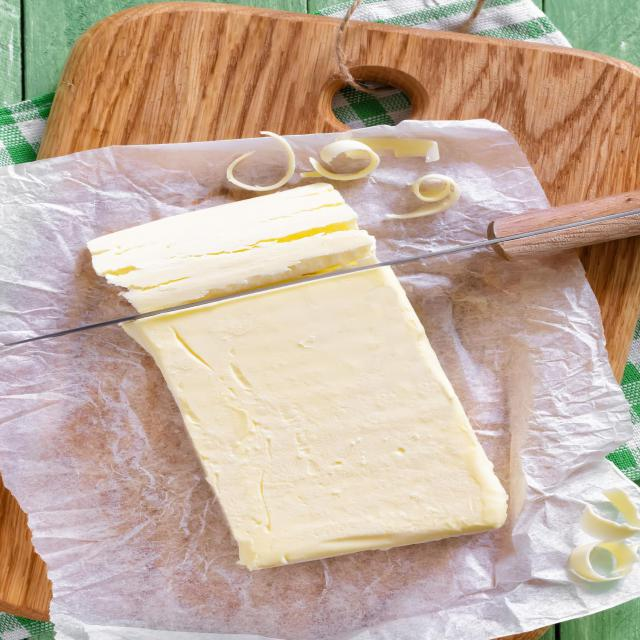butter: (112, 262, 510, 571), (86, 182, 374, 313)
